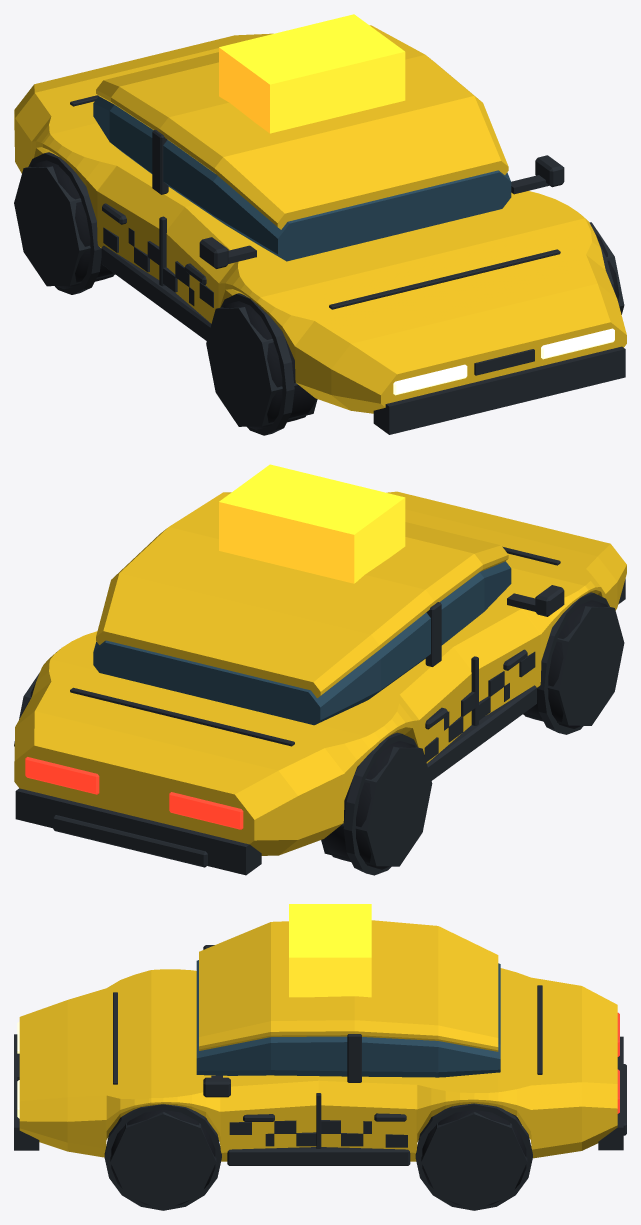
File: taxi.glb
3 views of the same model, one above another, from view 1: azimuth 30°, elevation 25°; view 2: azimuth 150°, elevation 25°; view 3: azimuth 270°, elevation 25° (orthographic). The views are drawn at different scales.
Visible parts, largest first — view 1: taxi_body, taxi_trim, taxi_fleet_trim, taxi_glass, taxi_topper, taxi_headlights, taxi_front_left_tyre, taxi_rear_left_tyre; view 2: taxi_body, taxi_fleet_trim, taxi_topper, taxi_trim, taxi_glass, taxi_taillights, taxi_rear_left_tyre, taxi_front_left_tyre; view 3: taxi_body, taxi_fleet_trim, taxi_trim, taxi_glass, taxi_topper, taxi_rear_right_tyre, taxi_front_right_tyre.
Part boxes in pixels (left/top/right/bottom): taxi_body: left=14, top=25, right=626, bottom=413; taxi_trim: left=28, top=95, right=622, bottom=435; taxi_fleet_trim: left=14, top=166, right=625, bottom=434; taxi_glass: left=93, top=96, right=511, bottom=261; taxi_topper: left=219, top=14, right=405, bottom=133; taxi_headlights: left=393, top=328, right=614, bottom=395; taxi_front_left_tyre: left=222, top=301, right=315, bottom=429; taxi_rear_left_tyre: left=30, top=160, right=113, bottom=289; taxi_body: left=14, top=491, right=626, bottom=855; taxi_fleet_trim: left=14, top=579, right=625, bottom=875; taxi_topper: left=219, top=464, right=405, bottom=583; taxi_trim: left=22, top=546, right=623, bottom=875; taxi_glass: left=93, top=561, right=511, bottom=725; taxi_taillights: left=25, top=757, right=243, bottom=829; taxi_rear_left_tyre: left=323, top=741, right=415, bottom=869; taxi_front_left_tyre: left=524, top=600, right=607, bottom=728; taxi_body: left=19, top=920, right=617, bottom=1161; taxi_fleet_trim: left=14, top=1034, right=623, bottom=1209; taxi_trim: left=17, top=945, right=626, bottom=1210; taxi_glass: left=196, top=960, right=500, bottom=1077; taxi_topper: left=289, top=904, right=371, bottom=997; taxi_rear_right_tyre: left=422, top=1109, right=526, bottom=1205; taxi_front_right_tyre: left=111, top=1109, right=215, bottom=1205.
Bounding box in the file's own units: 2.87 × 2.06 × 5.33.
